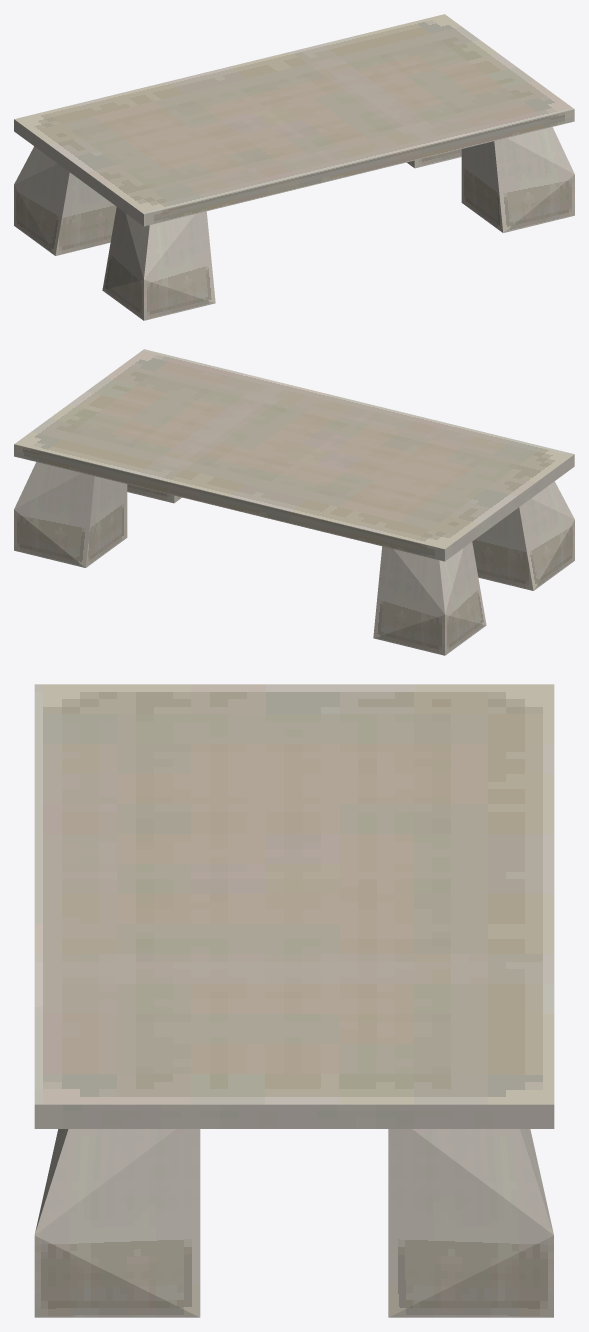
Rendered from frn_all_eleg_coffee_table_s01_l2.fbx.
3 renders of one model, top to bottom at view 1: azimuth 30°, elevation 25°; view 2: azimuth 150°, elevation 25°; view 3: azimuth 270°, elevation 25°, orthographic. The views are drawn at different scales.
Parts seen in each view (by area): view 1: mesh_node; view 2: mesh_node; view 3: mesh_node.
Part boxes in pixels (box(x1,y1,x2,y2)): mesh_node: box(14, 14, 574, 320); mesh_node: box(14, 349, 574, 655); mesh_node: box(34, 684, 554, 1317).
Bounding box in the file's own units: 1.69 × 0.3985 × 0.8813.
1 material, 1 textured.
